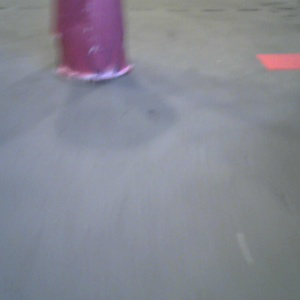right: (45, 1, 139, 86)
